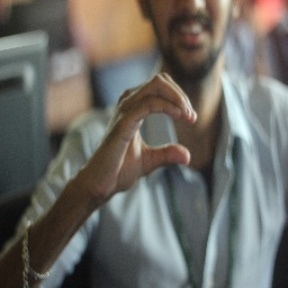C: (116, 70, 198, 177)
